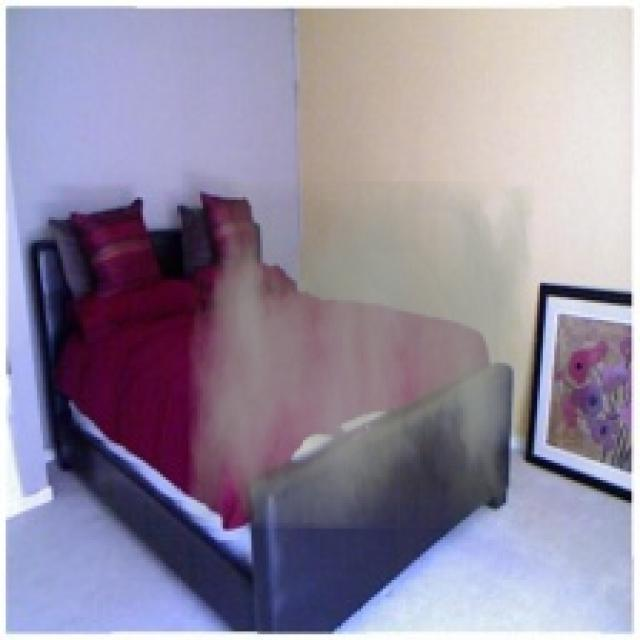Smoke: (188, 180, 534, 529)
